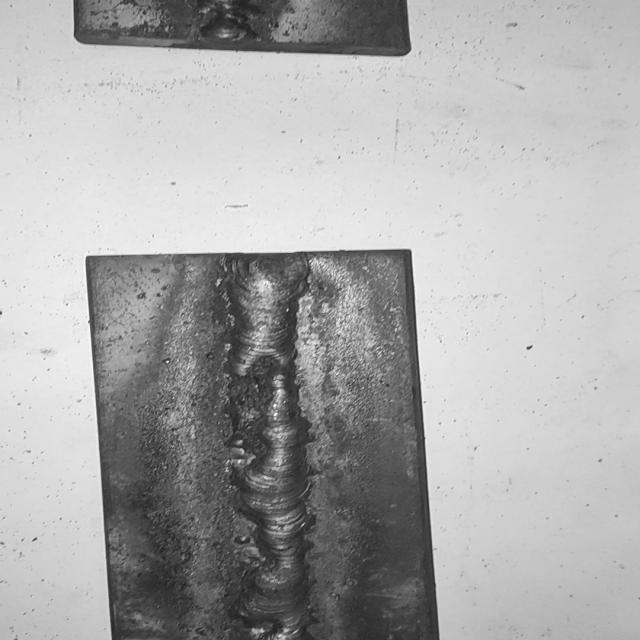Defect: (217, 349, 280, 472), (221, 500, 295, 596), (183, 0, 270, 41)
Welding Line: (231, 257, 314, 640)
Workpiece: (74, 244, 450, 640), (62, 0, 420, 62)
